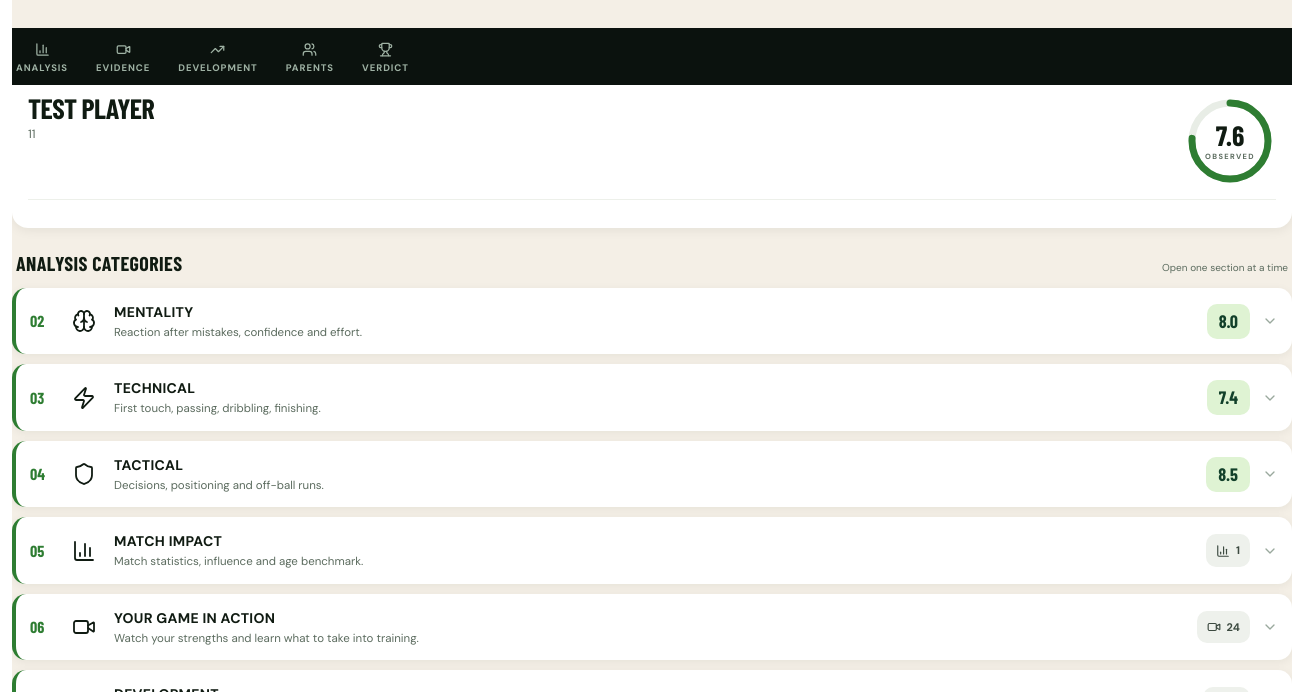
Test case: mobile Sequence categories keep native skill groups and backend weighted scores
Expected: the button with test id "pm-cat-tech-toggle" shows "7.4", [16,364,1292,431]
Expected: the button with test id "pm-cat-iq-toggle" shows "MENTALITY", [16,288,1292,354]
Click the button with test id "pm-cat-tact-toggle": {"x": 149, "y": 465} [16,441,1292,507]
(page scrolled)
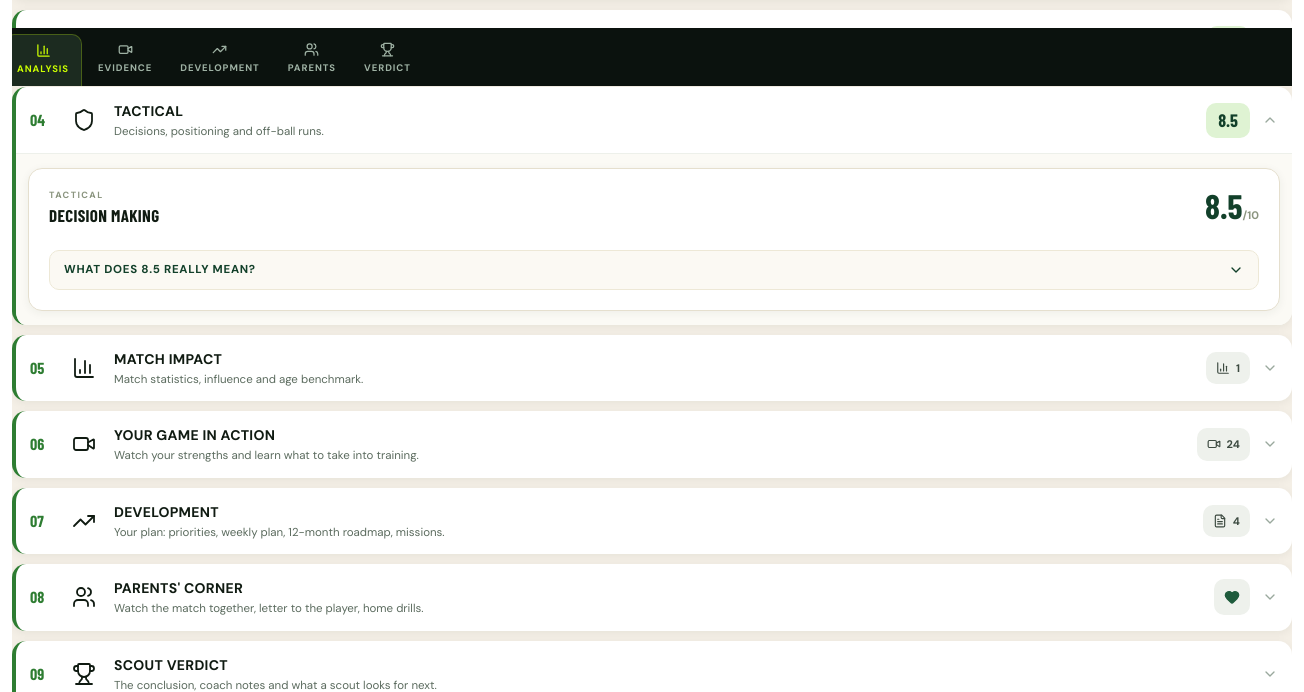
Result: the element with test id "sm-skill-card-decision_making" is shown at [28,168,1280,311]
